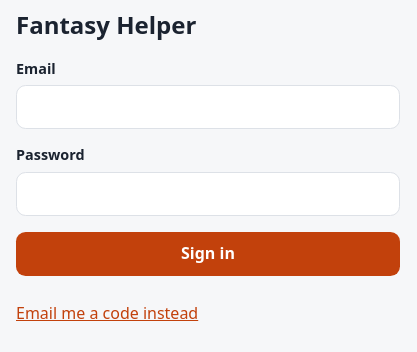
sign-in with an emailed code › says so when the email has no account here, and stays on the email step
Click the button "Email me a code instead" at (107, 314), box [16,292,198,336]
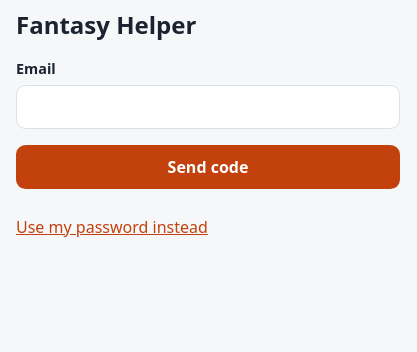
Type "stranger@example.com" into the field labelled "Email" at (208, 107), box [16,85,400,129]
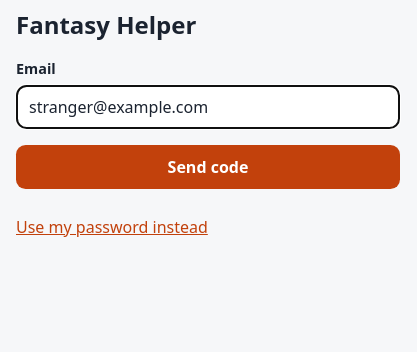
Click the button "Send code" at (208, 167), box [16,145,400,189]
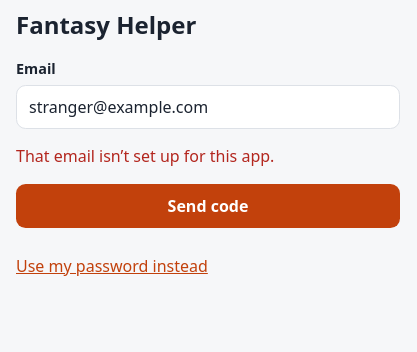
Now the message reads "That email isn’t set up for this app.", box [16,145,274,167]
